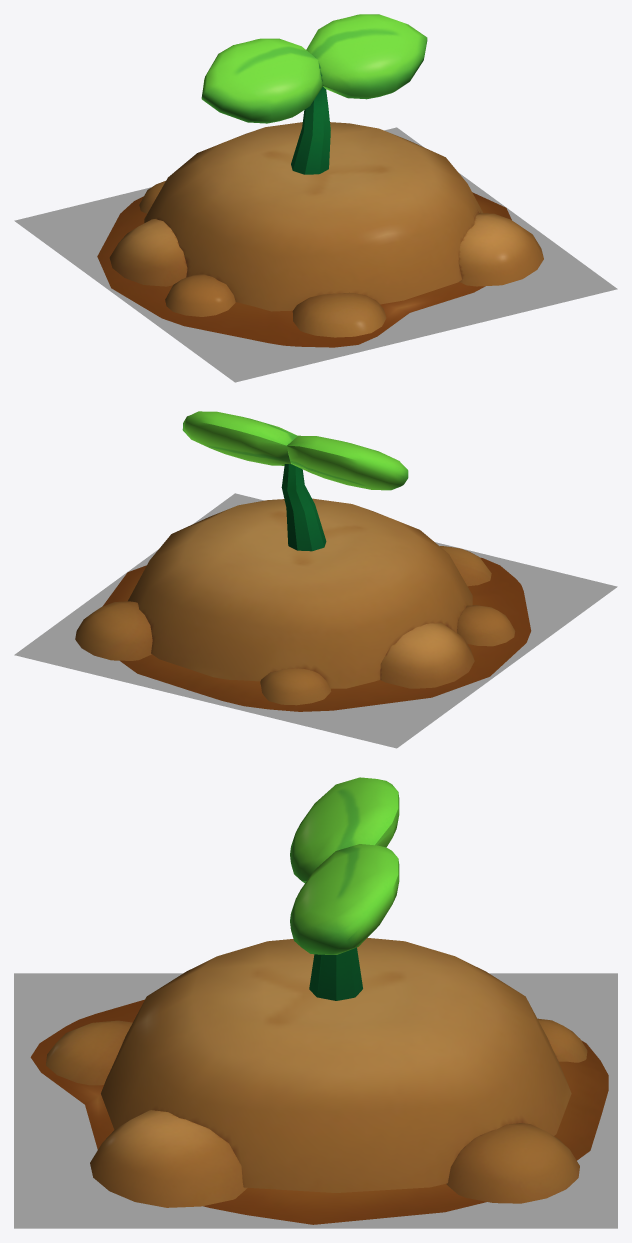
The model's file is SeedlingSoil.fbx.
3 views of the same model, one above another, from view 1: azimuth 30°, elevation 25°; view 2: azimuth 150°, elevation 25°; view 3: azimuth 270°, elevation 25° (orthographic). The views are drawn at different scales.
Parts seen in each view (by area): view 1: SeedlingSoil, SeedlingGrid, Stem, Seedling; view 2: SeedlingSoil, SeedlingGrid, Stem, Seedling; view 3: SeedlingSoil, SeedlingGrid, Stem, Seedling.
Boxes of the visible parts, left/top/right/bottom form: SeedlingSoil: left=97, top=122, right=543, bottom=347; SeedlingGrid: left=14, top=127, right=617, bottom=382; Stem: left=201, top=14, right=427, bottom=123; Seedling: left=291, top=87, right=330, bottom=174; SeedlingSoil: left=75, top=498, right=531, bottom=711; SeedlingGrid: left=14, top=493, right=617, bottom=748; Stem: left=182, top=411, right=408, bottom=490; Seedling: left=281, top=464, right=326, bottom=551; SeedlingSoil: left=30, top=937, right=608, bottom=1224; SeedlingGrid: left=14, top=973, right=617, bottom=1228; Stem: left=290, top=777, right=399, bottom=954; Seedling: left=309, top=947, right=362, bottom=1000.
Size of the model in its own units: 1 by 0.5096 by 1.
Materials: 4 (3 with a texture image).
